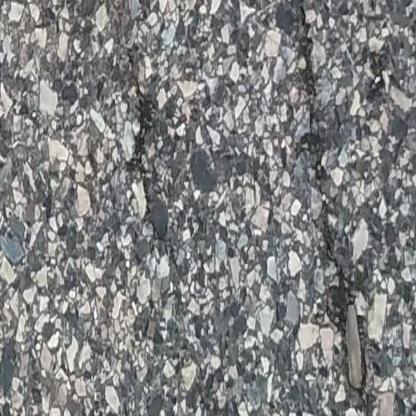Cracks: (291, 0, 401, 416)
